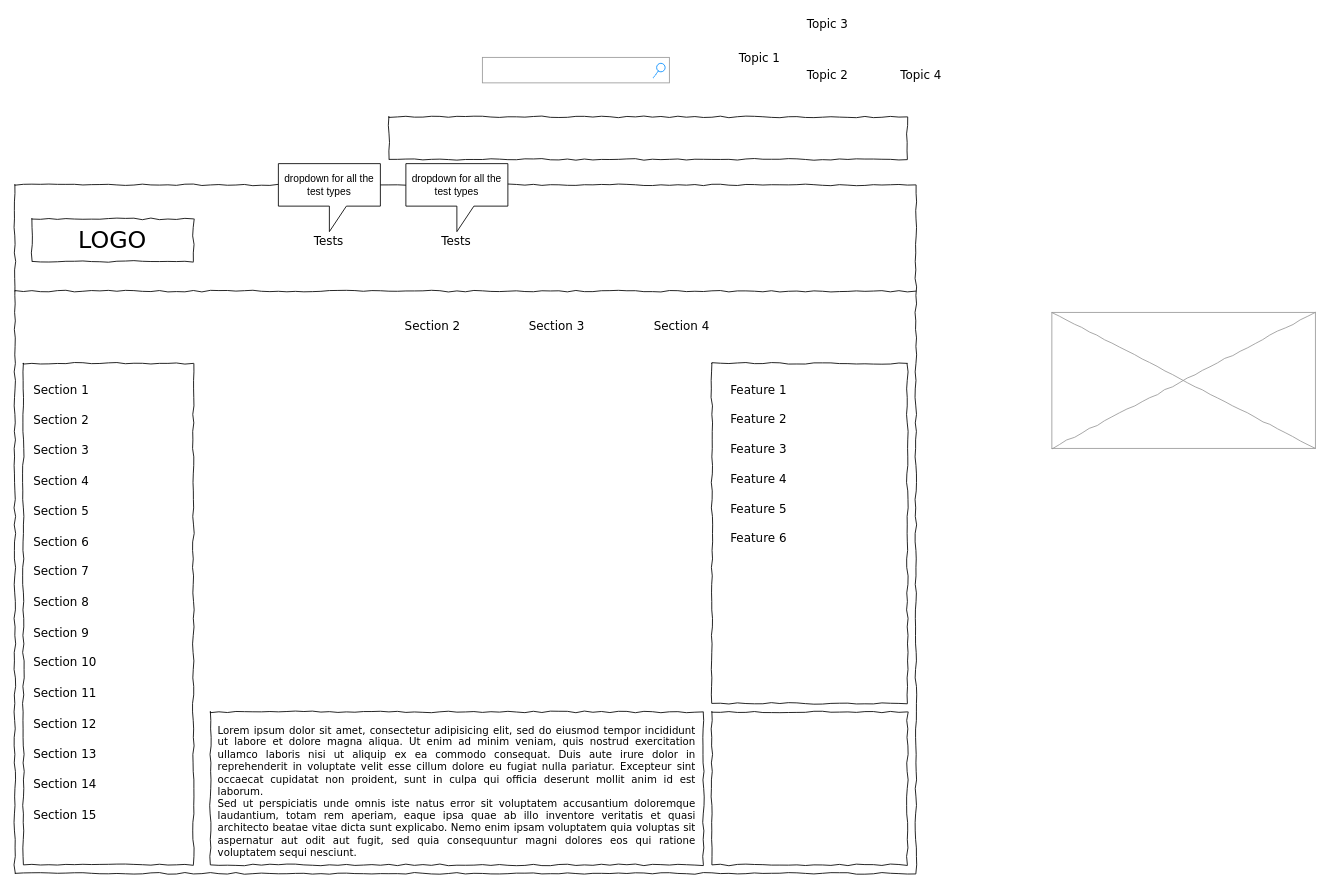
The diagram is 1330 pixels wide and 888 high, and some of its shapes have lost their labels. The shapes that lost their labels are listed below. From the top down, each one's centre as x and y in pixels, then its label:
pixel 575 70: Search
pixel 809 788: External Links
